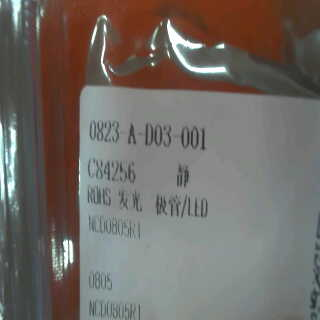LED: (114, 186, 217, 220)
